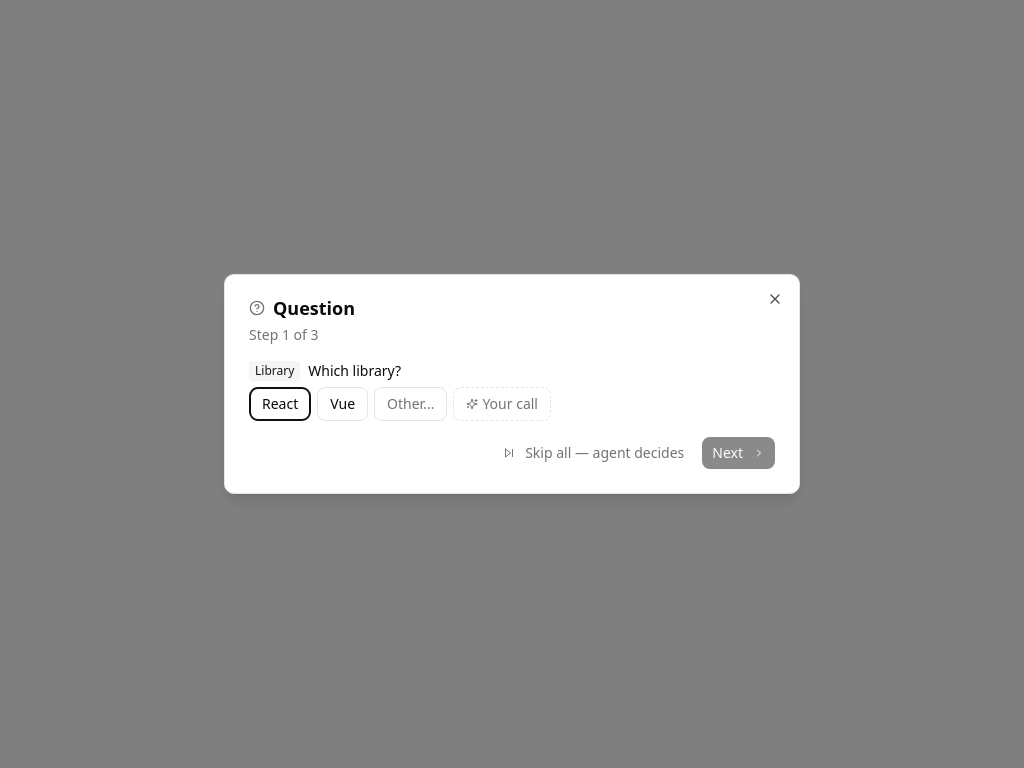
AskUserDialog › wizard mode (3+ questions) › shows review step after answering all questions
Note: Answer step 1
Click the button "React".
click(280, 404)  # box [249,387,311,421]
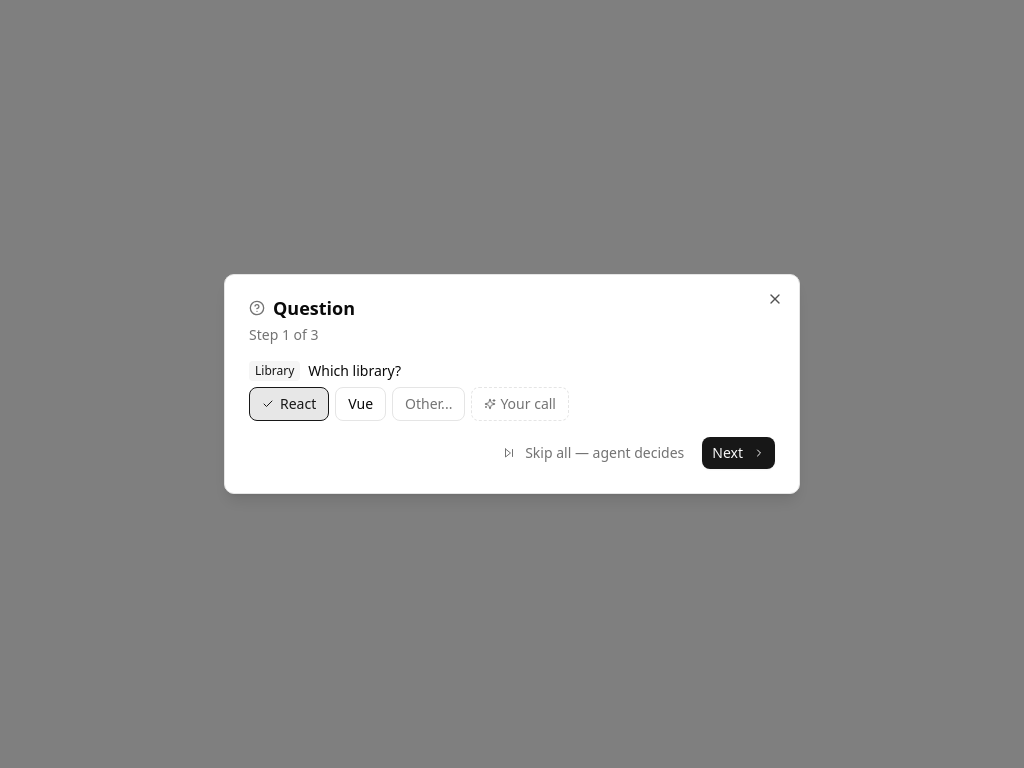
Click the button "Next".
click(739, 453)  # box [702,437,775,469]
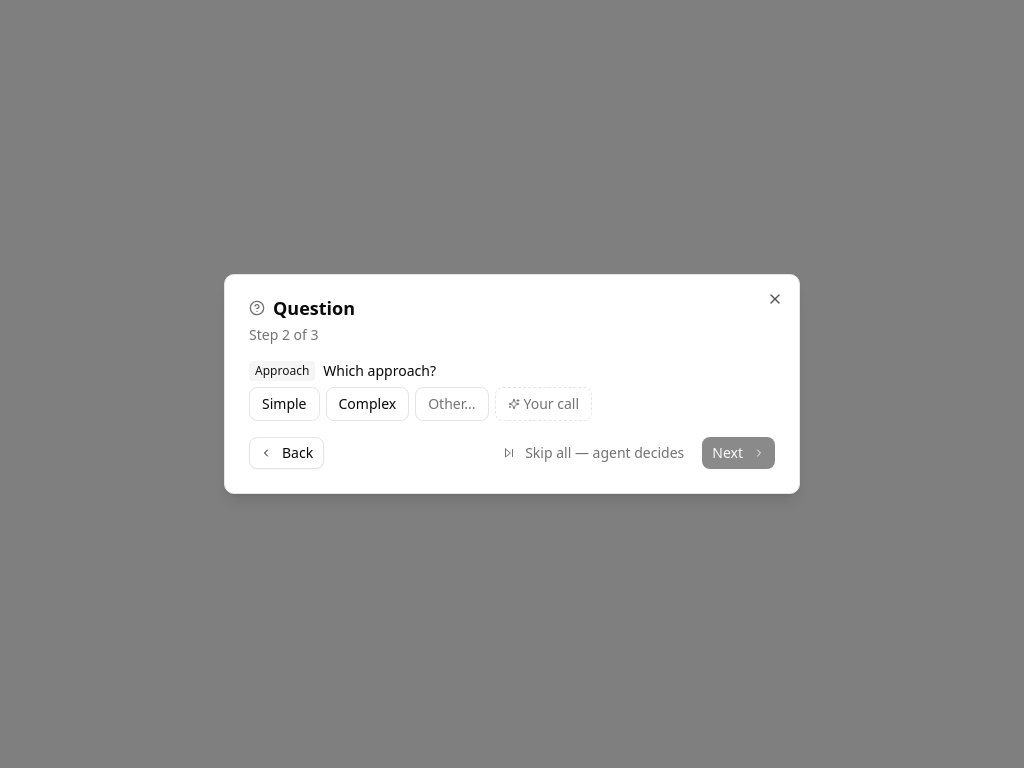
Note: Answer step 2
Click the button "Simple".
click(284, 404)  # box [249,387,320,421]
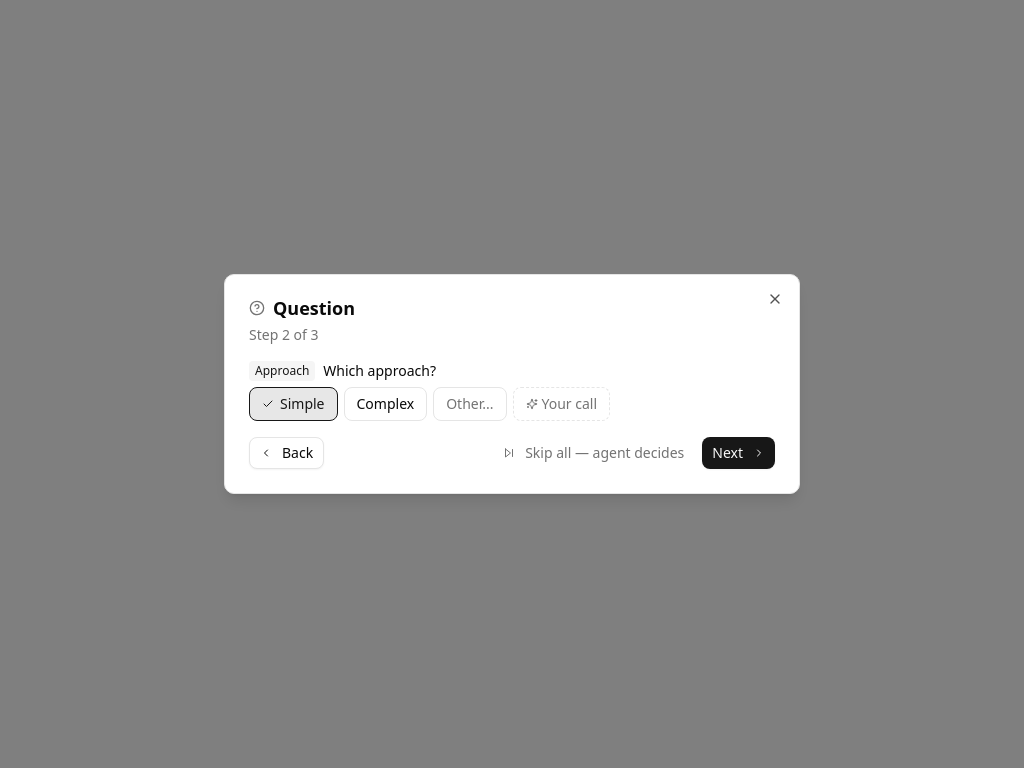
Click the button "Next".
click(739, 453)  # box [702,437,775,469]
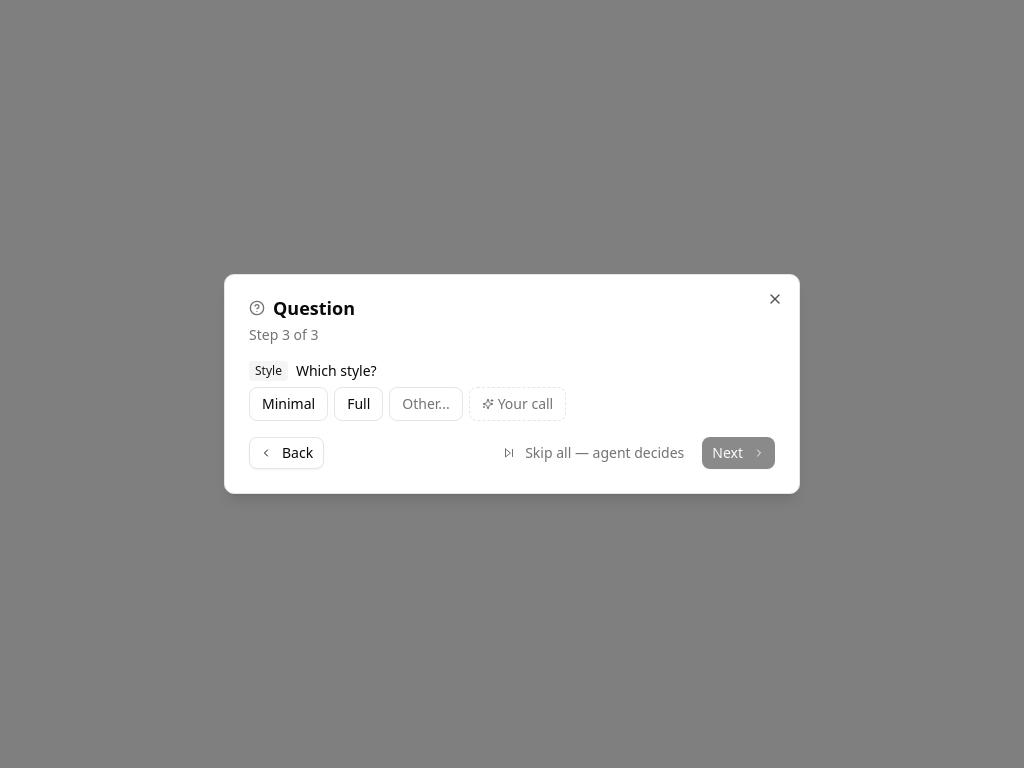
Note: Answer step 3
Click the button "Minimal".
click(289, 404)  # box [249,387,328,421]
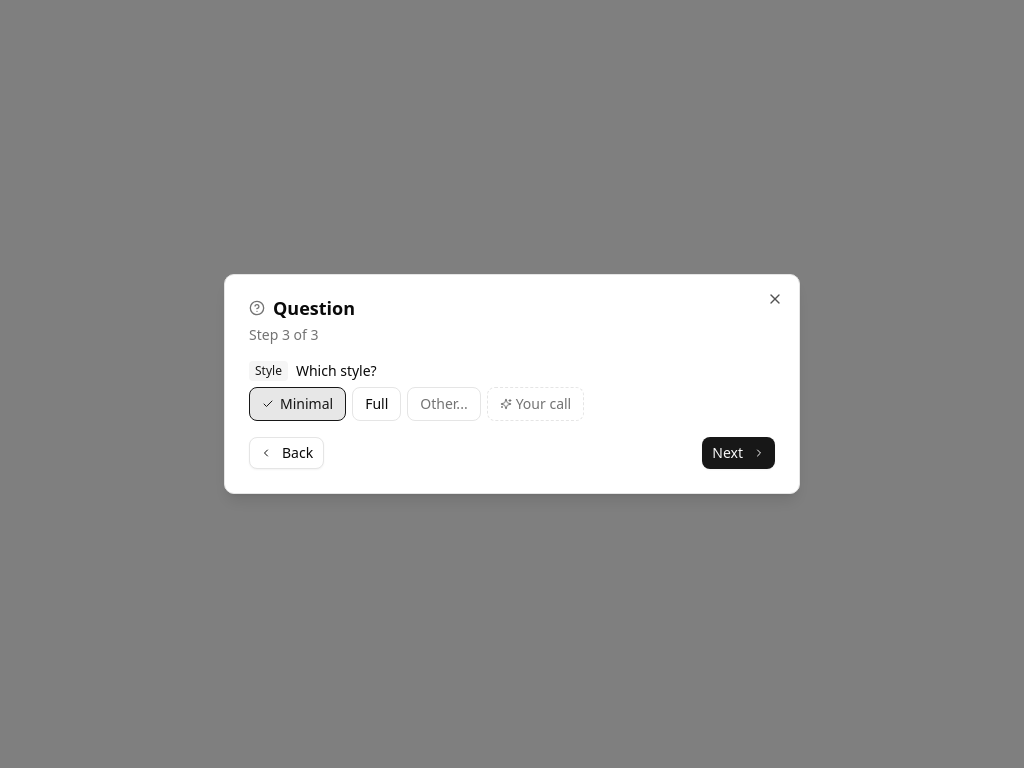
Click the button "Next".
click(739, 453)  # box [702,437,775,469]
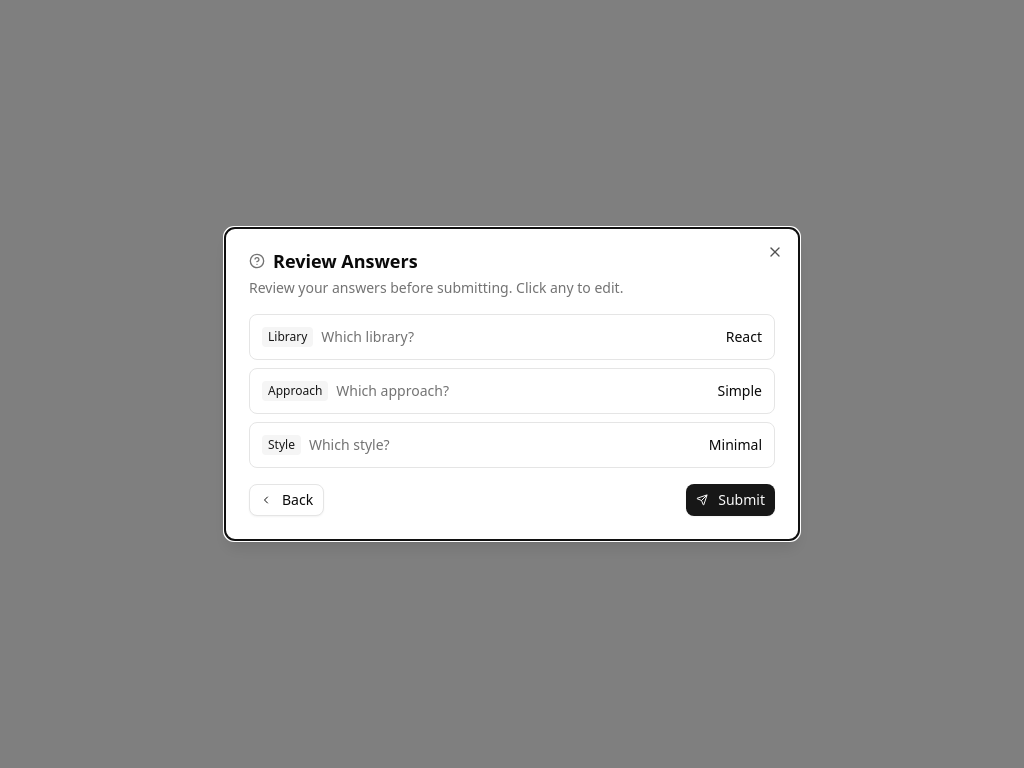
Result: the heading "Review Answers" is shown at [249,249,418,273]
Result: the text "React" is shown at [726,327,762,347]
Result: the text "Simple" is shown at [718,381,762,401]
